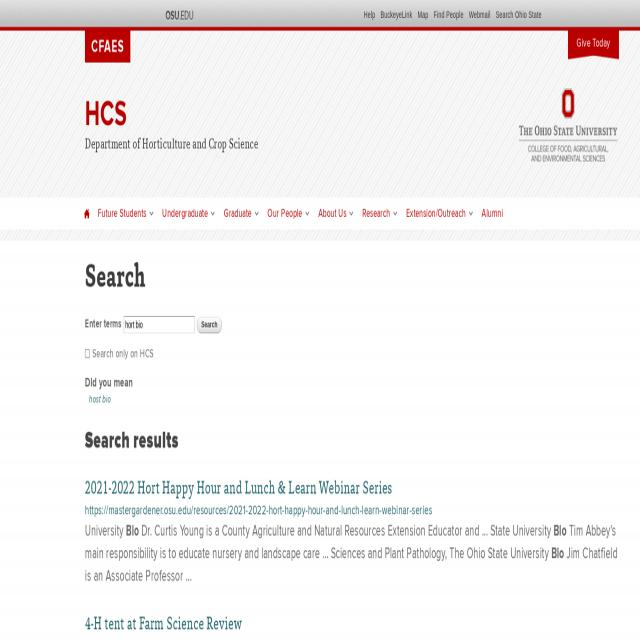button: (568, 30, 619, 61), (85, 31, 131, 63), (196, 316, 222, 334), (84, 208, 90, 220)
field: (124, 316, 194, 334), (85, 349, 91, 359)
